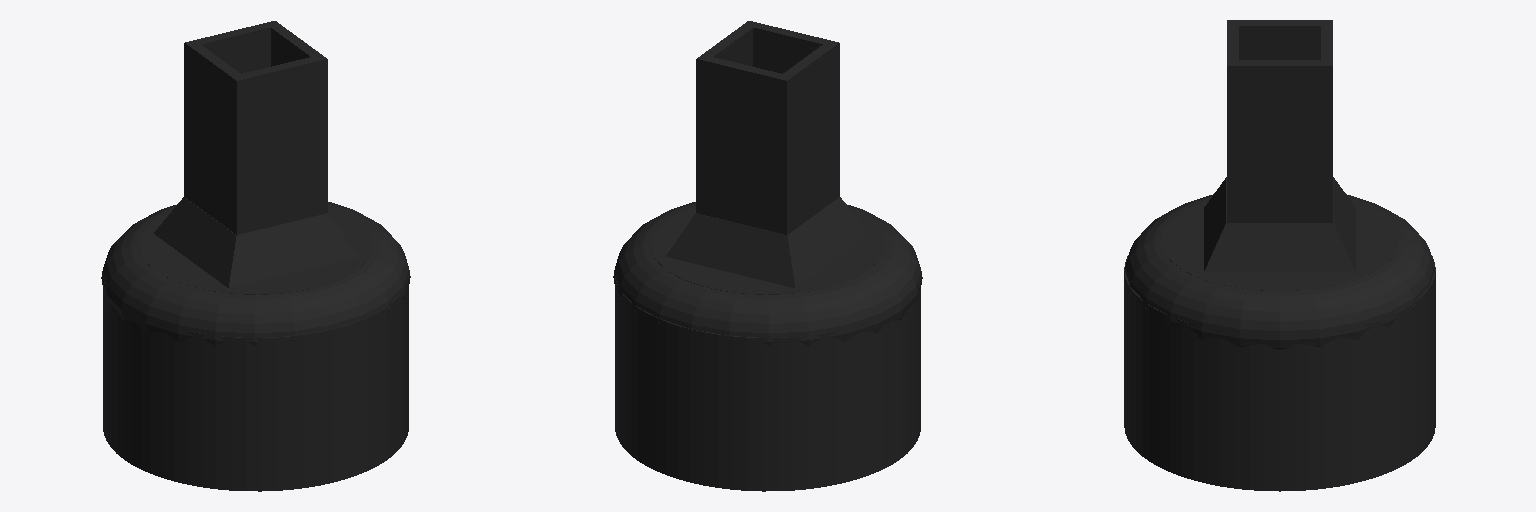
The robot description file, URDF, robot "suction-base.urdf":
<?xml version="0.0" ?>
<robot name="suction-base.urdf">
  <material name="DarkGrey">
    <color rgba="0.2 0.2 0.2 1.0"/>
  </material>

  <link name="baseLink">
    <contact>
      <lateral_friction value="1.0"/>
      <rolling_friction value="0.0001"/>
      <inertia_scaling value="3.0"/>
    </contact>
    <inertial>
      <origin rpy="0 0 0" xyz="0 0 0"/>
       <mass value=".1"/>
       <inertia ixx="1" ixy="0" ixz="0" iyy="1" iyz="0" izz="1"/>
    </inertial>
    <visual>
      <origin rpy="0 0 0" xyz="0 0 0"/>
      <geometry>
        <mesh filename="suction/base.obj" scale="0.001 0.001 0.001"/>
      </geometry>
      <material name="DarkGrey"/>
    </visual>
  </link>

  <link name="midLink">
    <contact>
      <lateral_friction value="1.0"/>
      <rolling_friction value="0.0001"/>
      <inertia_scaling value="3.0"/>
    </contact>
    <inertial>
      <origin rpy="0 0 0" xyz="0 0 0"/>
       <mass value=".1"/>
       <inertia ixx="1" ixy="0" ixz="0" iyy="1" iyz="0" izz="1"/>
    </inertial>
    <visual>
      <origin rpy="0 0 0" xyz="0 0 0"/>
      <geometry>
        <mesh filename="suction/mid.obj" scale="0.001 0.001 0.001"/>
      </geometry>
      <material name="DarkGrey"/>
    </visual>
  </link>

  <joint name="baseLink-midLink" type="fixed">
    <origin rpy="0 0 0" xyz="0 0 0.025"/>
    <parent link="baseLink"/>
    <child link="midLink"/>
  </joint>

</robot>


--- What the picture shows (computed from the rendered views, not written in the file) ---
The picture shows the robot from 3 angles, left to right: view 1: azimuth 30°, elevation 25°; view 2: azimuth 150°, elevation 25°; view 3: azimuth 270°, elevation 25°; orthographic projection.
Robot: suction-base.urdf — 2 links, 1 joints (1 fixed); root link baseLink; default pose: all joints at 0.
Visible links, largest first — view 1: midLink, baseLink; view 2: midLink, baseLink; view 3: midLink, baseLink.
Boxes of the visible links, x1,y1,x2,y2 form: midLink: [101, 21, 410, 399]; baseLink: [103, 340, 408, 491]; midLink: [613, 21, 922, 399]; baseLink: [615, 340, 920, 491]; midLink: [1124, 20, 1435, 398]; baseLink: [1124, 335, 1435, 491].
Size in the robot's own frame: 0.077 by 0.076 by 0.103 metres.
2 mesh visuals loaded from 2 distinct referenced files (2 OBJ).